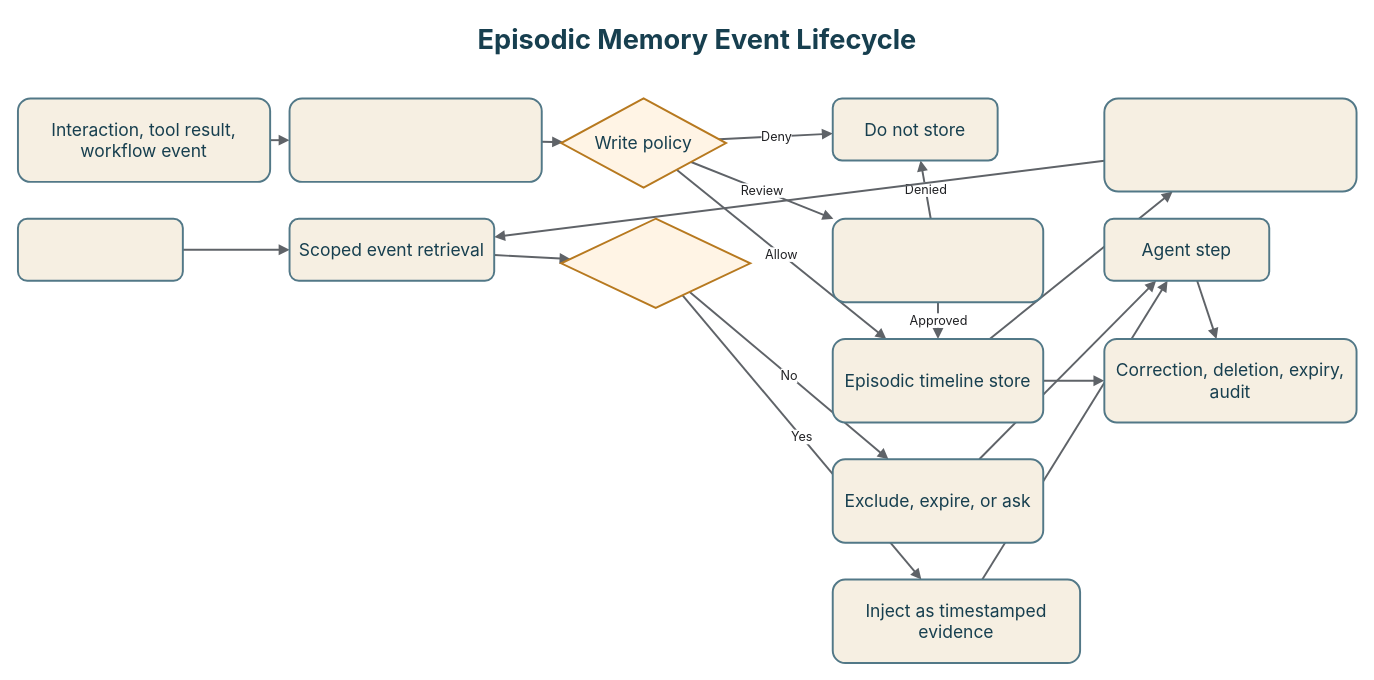
This 1374x680 diagram has some shape labels left out. The shapes that lost their labels are listed below. From the top down, each one's centre as x and y in pixels, then its label:
[415,139]: Classify event type, actor, scope, evidence
[1230,144]: Index by actor, tenant, project, event type, recency
[99,249]: New task
[655,262]: Eligible and fresh?
[937,260]: Human or product review
